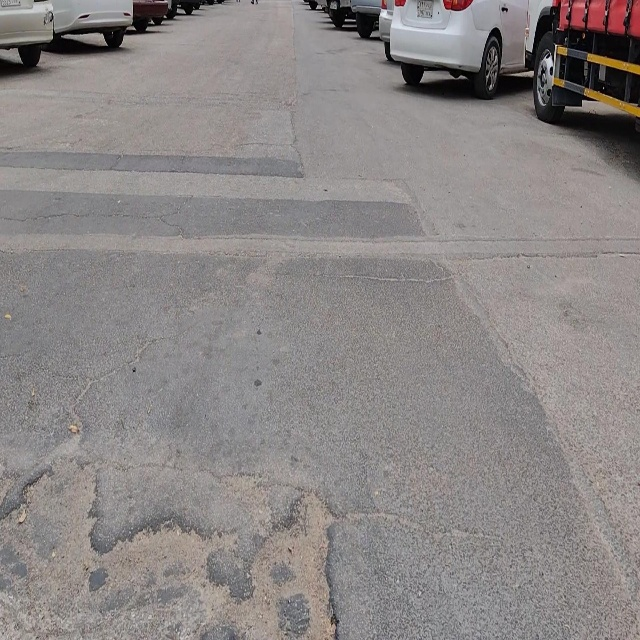pothole: (219, 486, 339, 640)
